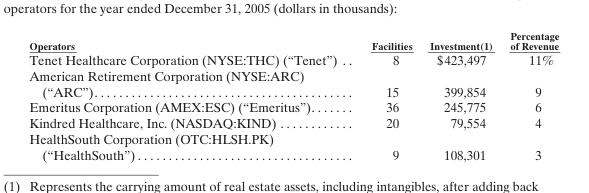table: (28, 28, 558, 161)
table column: (28, 28, 353, 161), (420, 28, 500, 161), (353, 28, 420, 161), (500, 28, 558, 161)
table column header: (28, 28, 558, 51)
table row: (28, 67, 558, 98), (28, 130, 558, 161), (28, 28, 558, 51), (28, 51, 558, 67), (28, 98, 558, 114), (28, 114, 558, 130)
